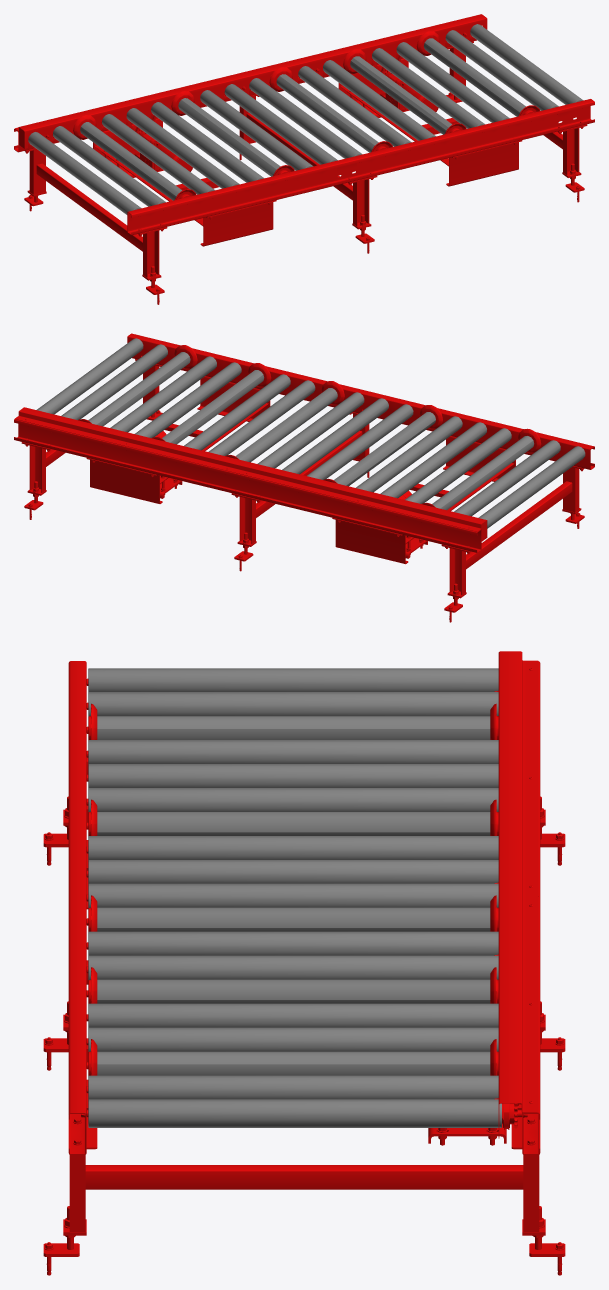
The model's file is conveyor.dae.
3 renders of one model, top to bottom at view 1: azimuth 30°, elevation 25°; view 2: azimuth 150°, elevation 25°; view 3: azimuth 270°, elevation 25°, orthographic. The views are drawn at different scales.
Parts seen in each view (by area): view 1: Conveyor; view 2: Conveyor; view 3: Conveyor.
Boxes of the visible parts, left/top/right/bottom form: Conveyor: left=14, top=14, right=594, bottom=304; Conveyor: left=14, top=333, right=594, bottom=622; Conveyor: left=43, top=651, right=565, bottom=1275.
Bounding box in the file's own units: 2.99 × 1.46 × 0.6065.
